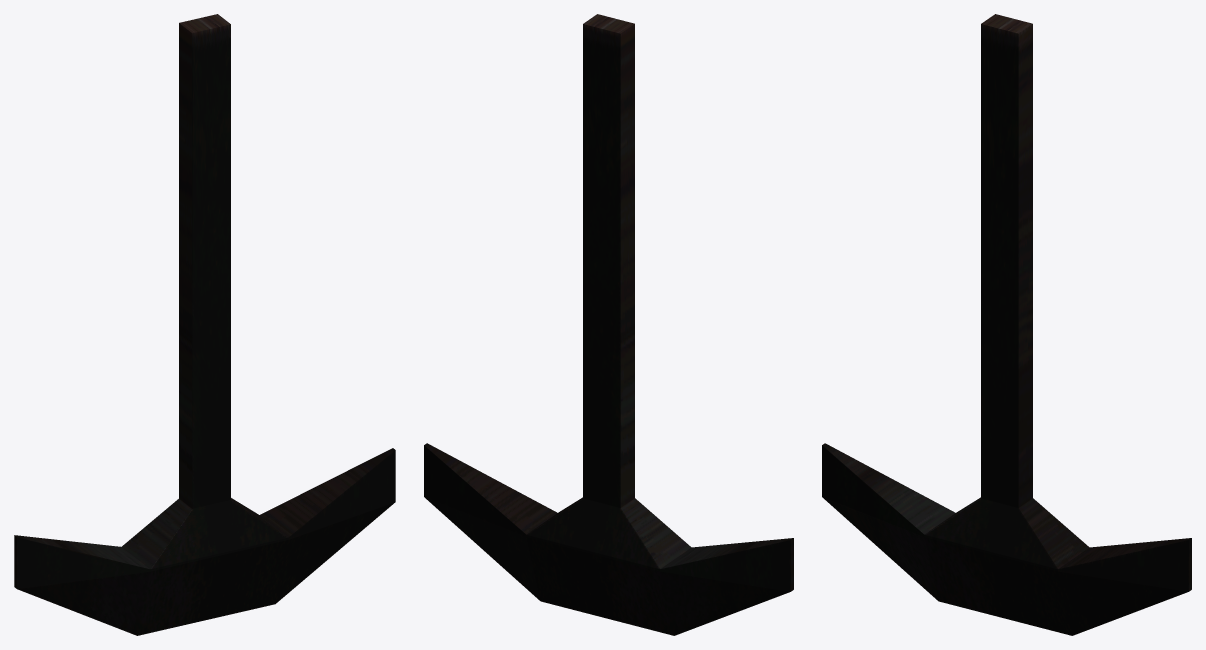
The model's file is Guillotine.fbx.
3 renders of one model, left to right at view 1: azimuth 30°, elevation 25°; view 2: azimuth 150°, elevation 25°; view 3: azimuth 330°, elevation 25°, orthographic.
Parts seen in each view (by area): view 1: root; view 2: root; view 3: root.
Boxes of the visible parts, <box> form: root: <box>14,14,395,635</box>; root: <box>424,14,793,635</box>; root: <box>822,14,1191,635</box>.
Size of the model in its own units: 0.3361 by 0.512 by 0.0504.
Materials: 1 (1 with a texture image).
